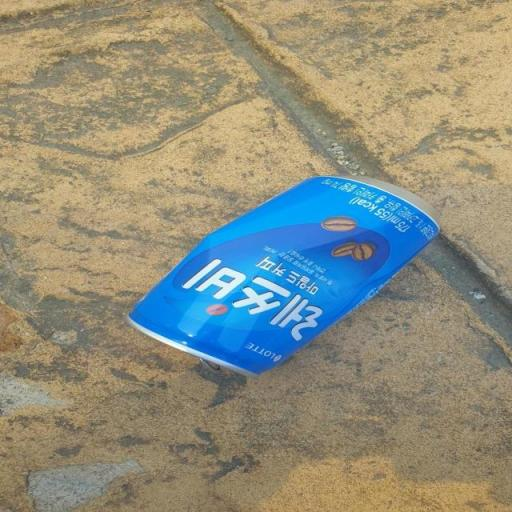metal: (81, 160, 454, 390)
